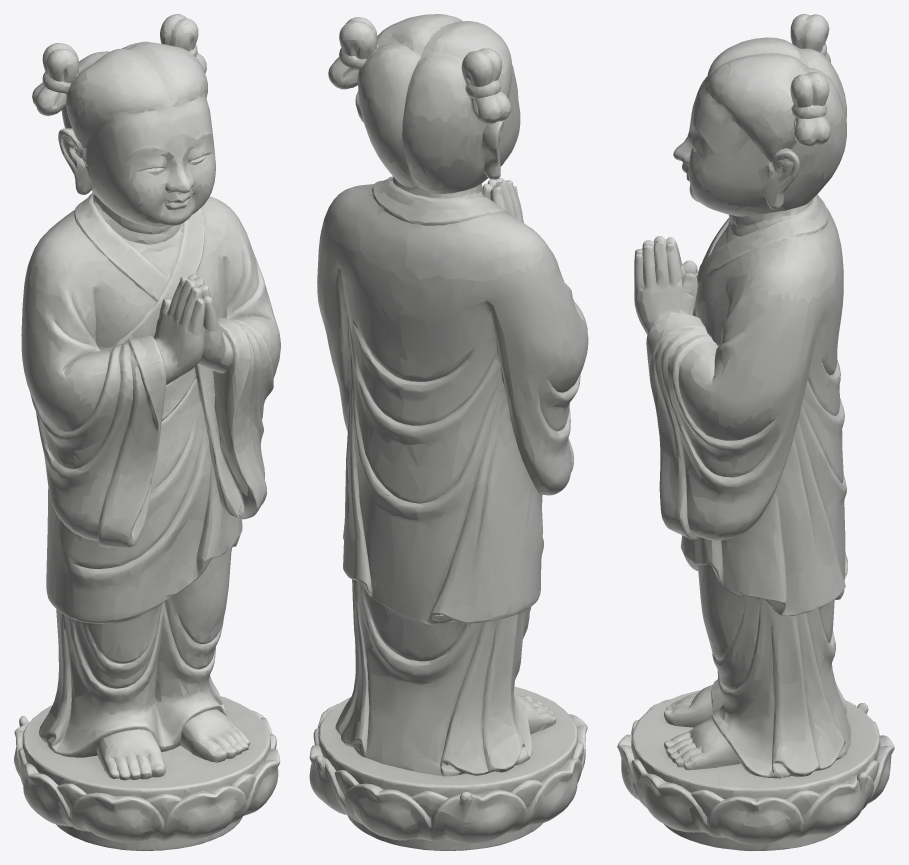
The model's file is statue-dongja.glb.
3 views of the same model, side by side, from view 1: azimuth 30°, elevation 25°; view 2: azimuth 150°, elevation 25°; view 3: azimuth 270°, elevation 25° (orthographic). The views are drawn at different scales.
Parts seen in each view (by area): view 1: output_unwrapped; view 2: output_unwrapped; view 3: output_unwrapped.
Part boxes in pixels (bbox=[...]): output_unwrapped: bbox=[14, 14, 280, 850]; output_unwrapped: bbox=[309, 14, 588, 850]; output_unwrapped: bbox=[617, 14, 894, 850].
Size of the model in its own units: 0.6225 by 1.9 by 0.625.
1 material, 1 textured.
